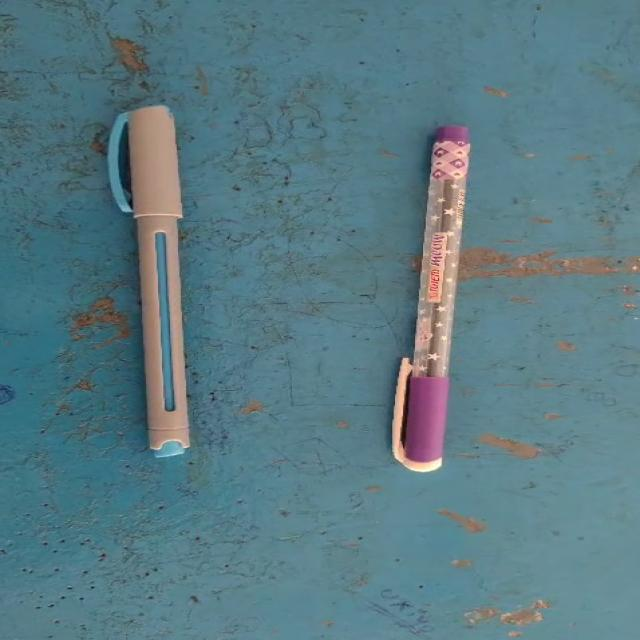pen: (46, 76, 252, 479), (372, 110, 527, 494)
